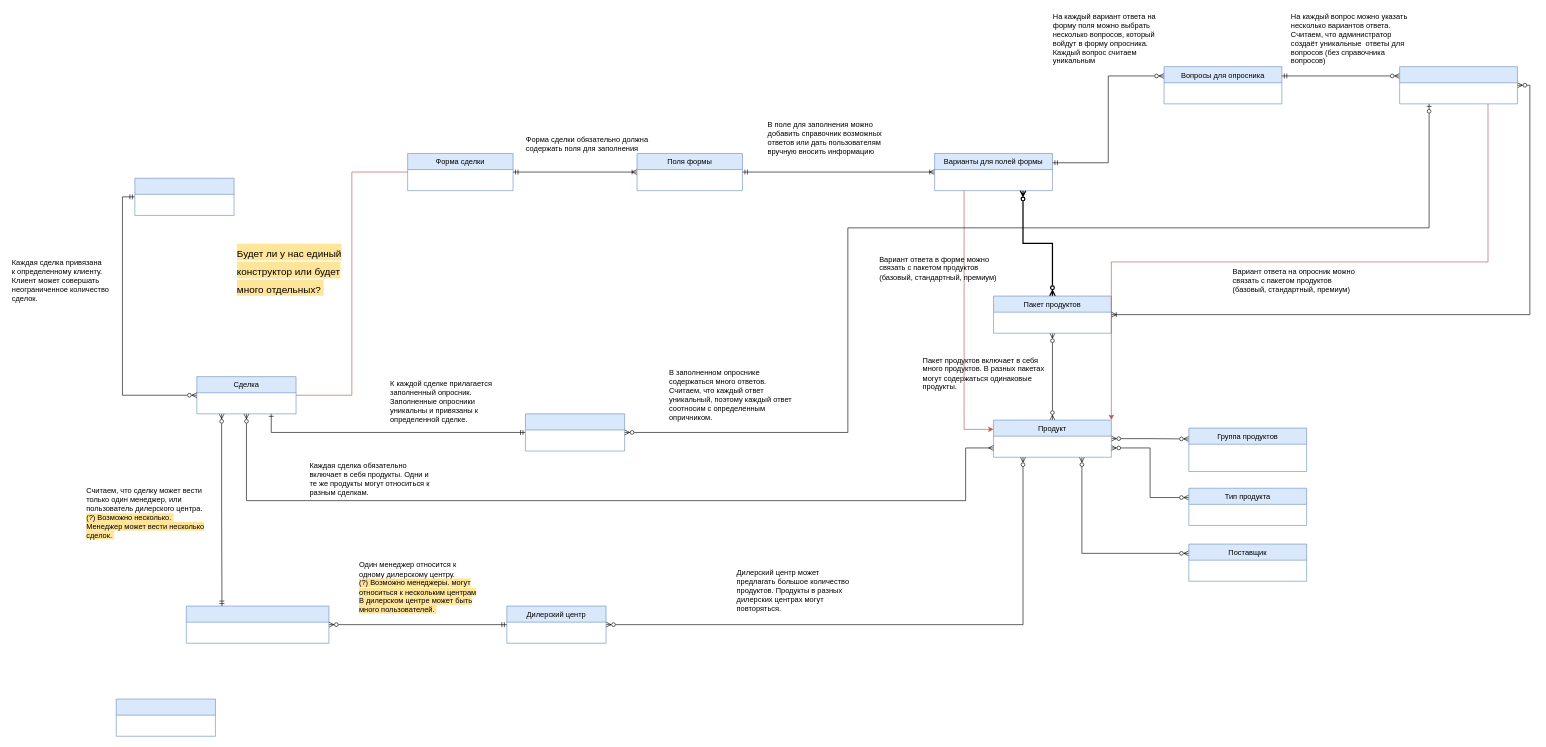
The diagram is 1546 pixels wide and 747 high, and some of its shapes have lost their labels. Each missing label, with the box of its shape:
Администратор системы: (116, 698, 215, 736)
Заполненный опросник: (525, 413, 625, 451)
Клиент: (134, 178, 234, 215)
Менеджер дилерского центра: (186, 605, 329, 643)
Ответы для опросника: (1399, 66, 1517, 104)
